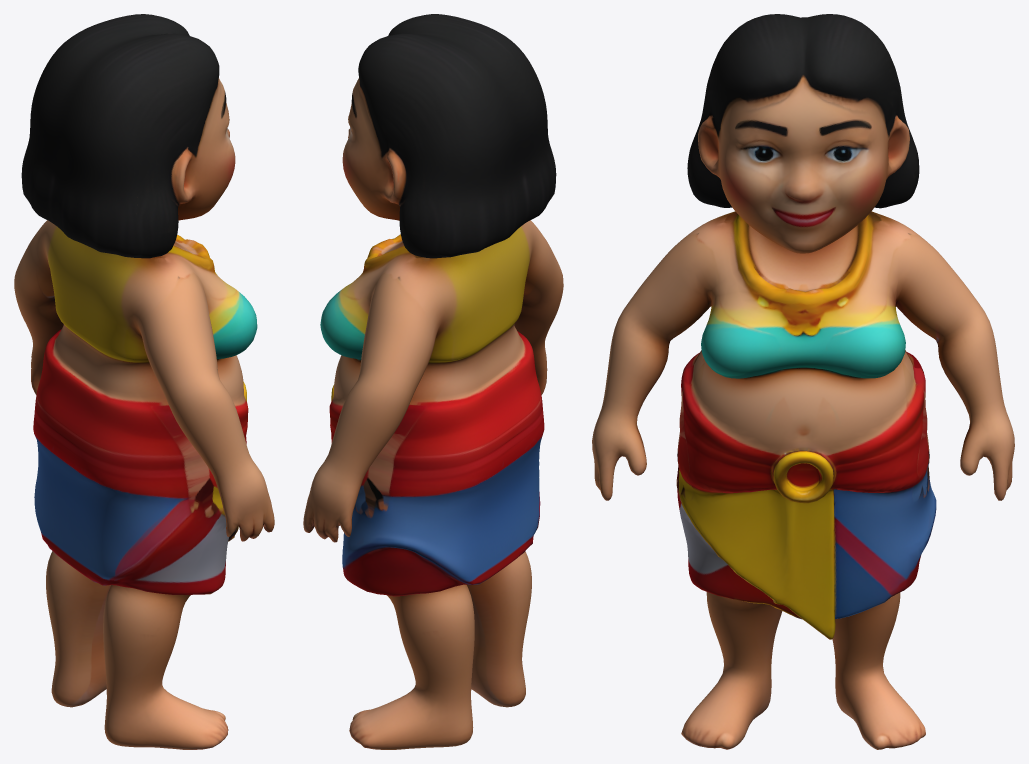
File: Char_Marites-v2.fbx
The picture shows the model from 3 angles, left to right: view 1: azimuth 30°, elevation 25°; view 2: azimuth 150°, elevation 25°; view 3: azimuth 270°, elevation 25°; orthographic projection. The views are drawn at different scales.
Visible parts, largest first — view 1: model; view 2: model; view 3: model.
Boxes of the visible parts, x1,y1,x2,y2 form: model: [14, 14, 274, 749]; model: [303, 14, 563, 749]; model: [592, 14, 1014, 749].
Bounding box in the file's own units: 87.81 × 300 × 163.
1 material, 1 textured.
